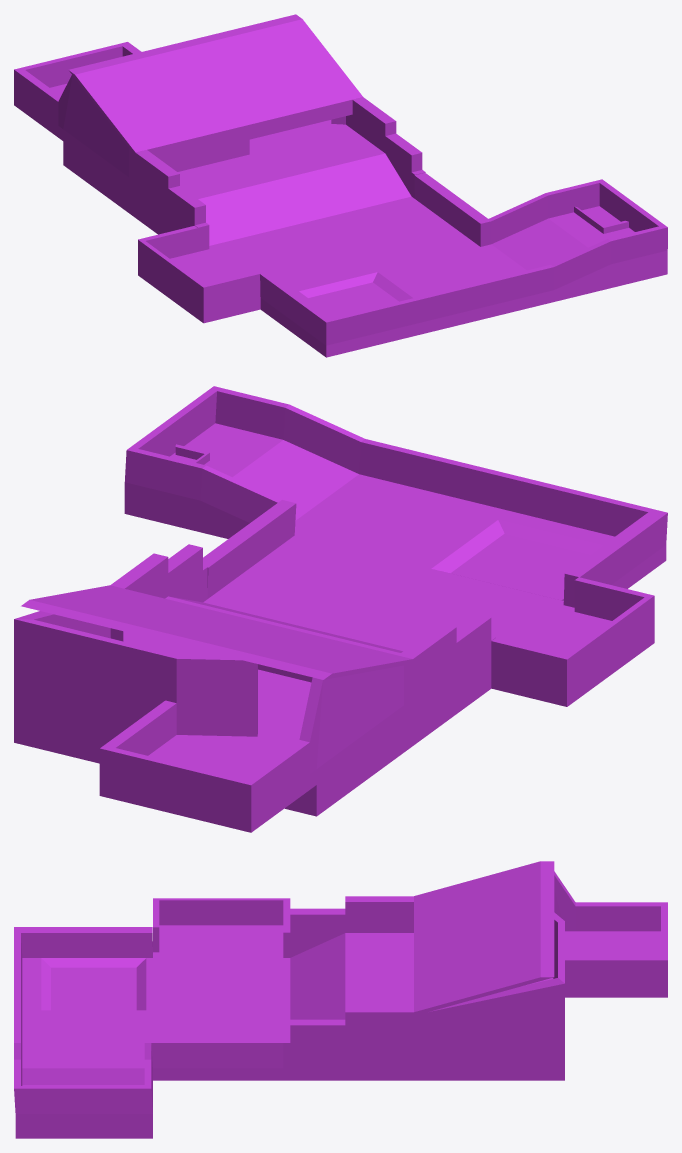
Rendered from MainLevel.gltf.
The picture shows the model from 3 angles, top to bottom: view 1: azimuth 30°, elevation 25°; view 2: azimuth 150°, elevation 25°; view 3: azimuth 270°, elevation 25°; orthographic projection. The views are drawn at different scales.
Parts seen in each view (by area): view 1: Cube-Col; view 2: Cube-Col; view 3: Cube-Col.
Boxes of the visible parts, x1,y1,x2,y2 form: Cube-Col: (14,14,667,357); Cube-Col: (14,386,667,832); Cube-Col: (14,861,667,1138).
Size of the model in its own units: 70 by 16.62 by 95.23.
